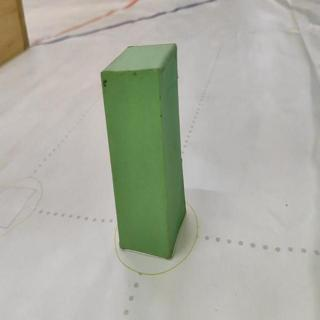greenbox: (99, 43, 187, 264)
